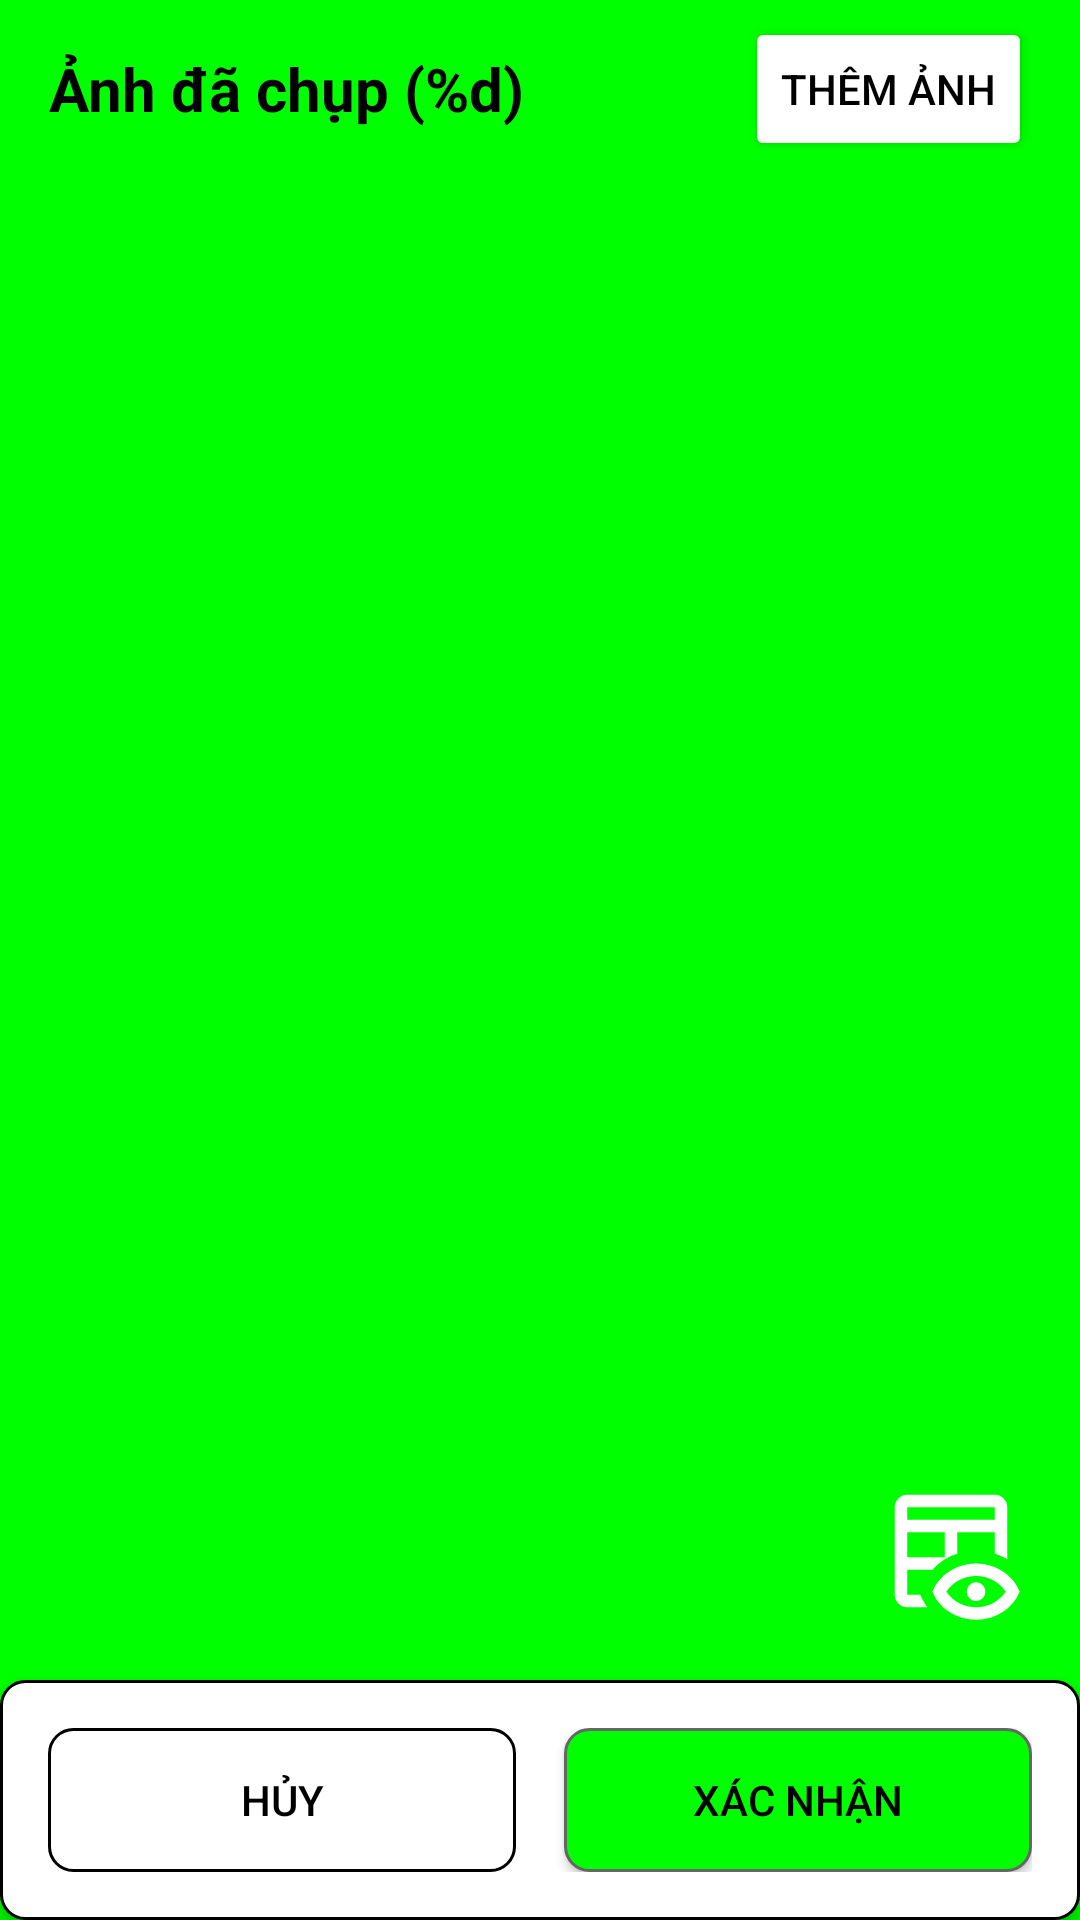

Screen size 1080w x 1920h. Icon name, then its box in pixels as (x1, y1, x2, y2):
view grid: (894, 1494, 1020, 1620)
